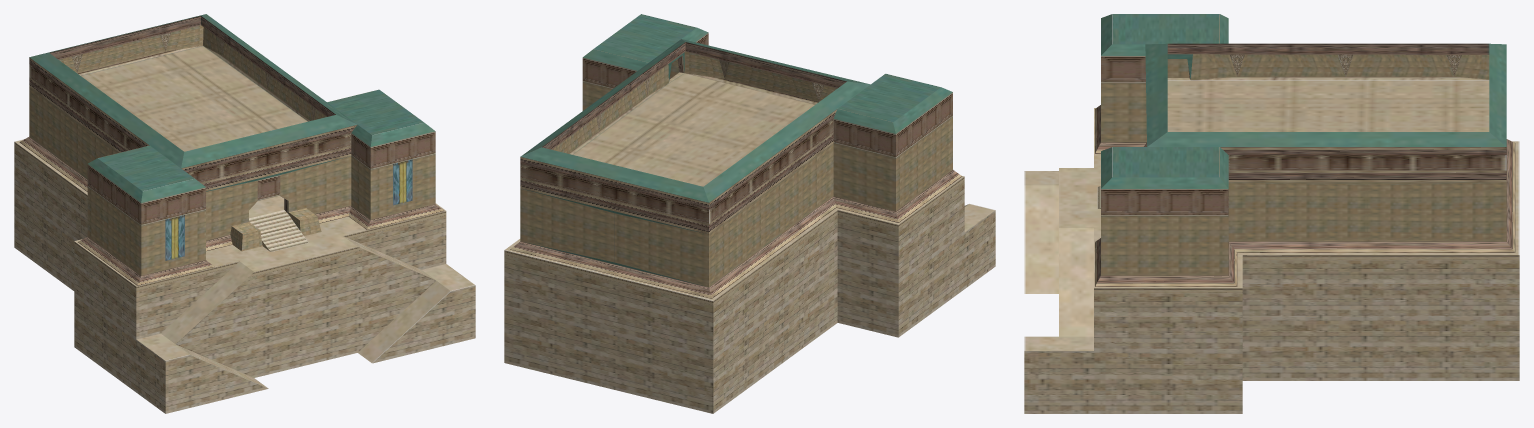
Rendered from ply_nboo_assoc_hall_civ_s01_r0_exterior_mesh_exterior_l2.fbx.
3 renders of one model, left to right at view 1: azimuth 30°, elevation 25°; view 2: azimuth 150°, elevation 25°; view 3: azimuth 270°, elevation 25°, orthographic. The views are drawn at different scales.
Parts seen in each view (by area): view 1: mesh_node; view 2: mesh_node; view 3: mesh_node.
Part boxes in pixels (<box>): mesh_node: <box>14,14,475,413</box>; mesh_node: <box>504,14,995,413</box>; mesh_node: <box>1024,14,1519,413</box>.
Bounding box in the file's own units: 49 × 30 × 57.
